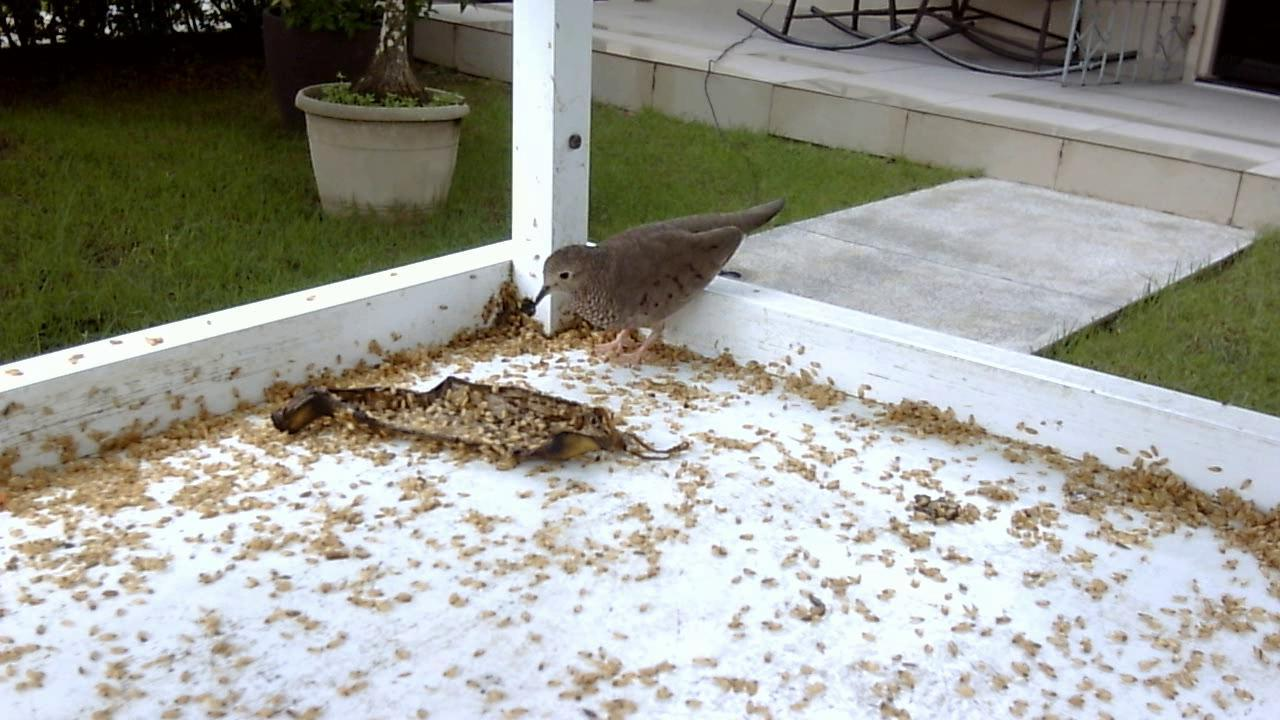rolinha: (529, 185, 797, 376)
